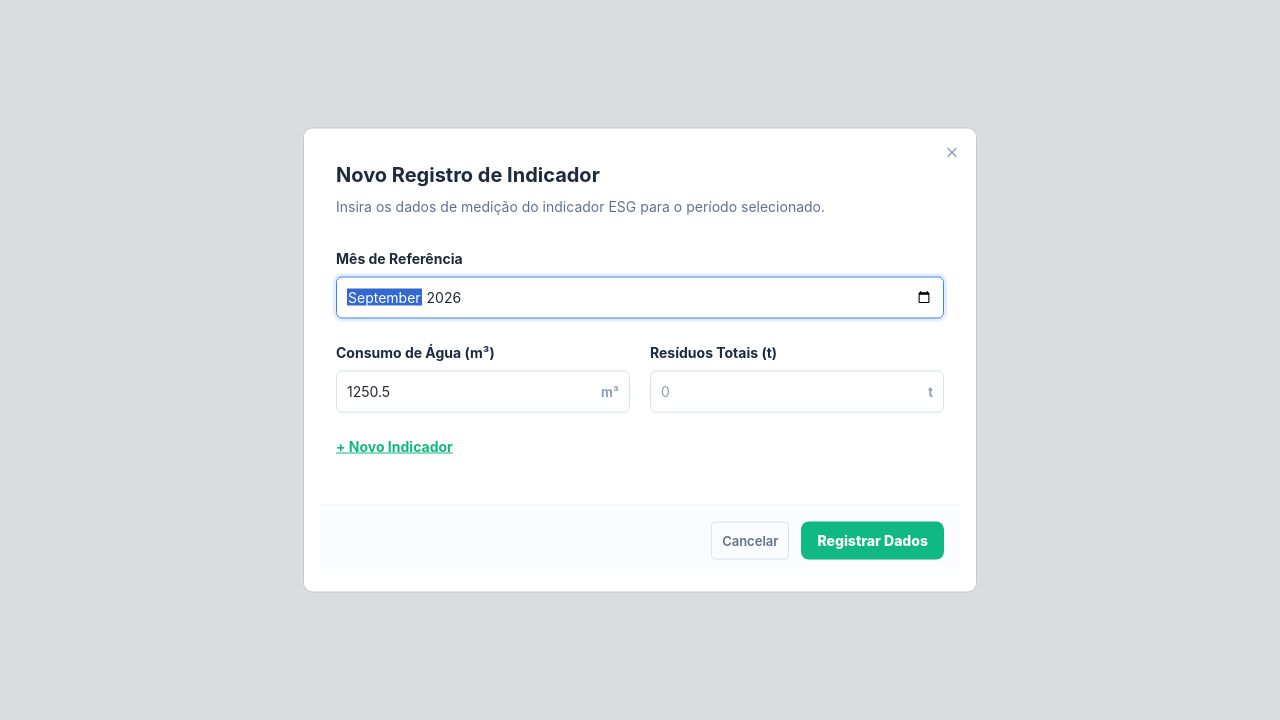
Scenario: NewEsgIndicatorModal › displays API error inside modal when PUT fails
Type "500" into the number field labelled "Consumo de Água (m³)".
click(469, 392); type("500")  # box [347,382,591,402]
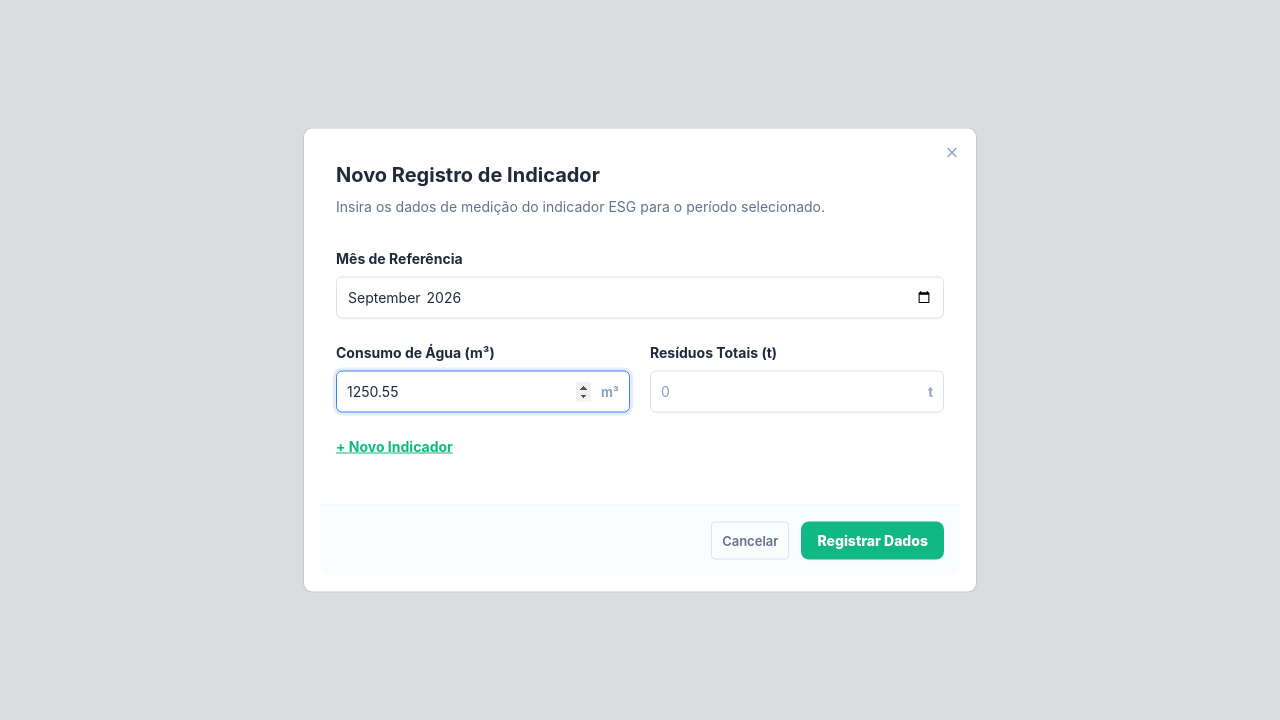
Click the button "Registrar Dados".
click(873, 540)  # box [801,522,944,560]
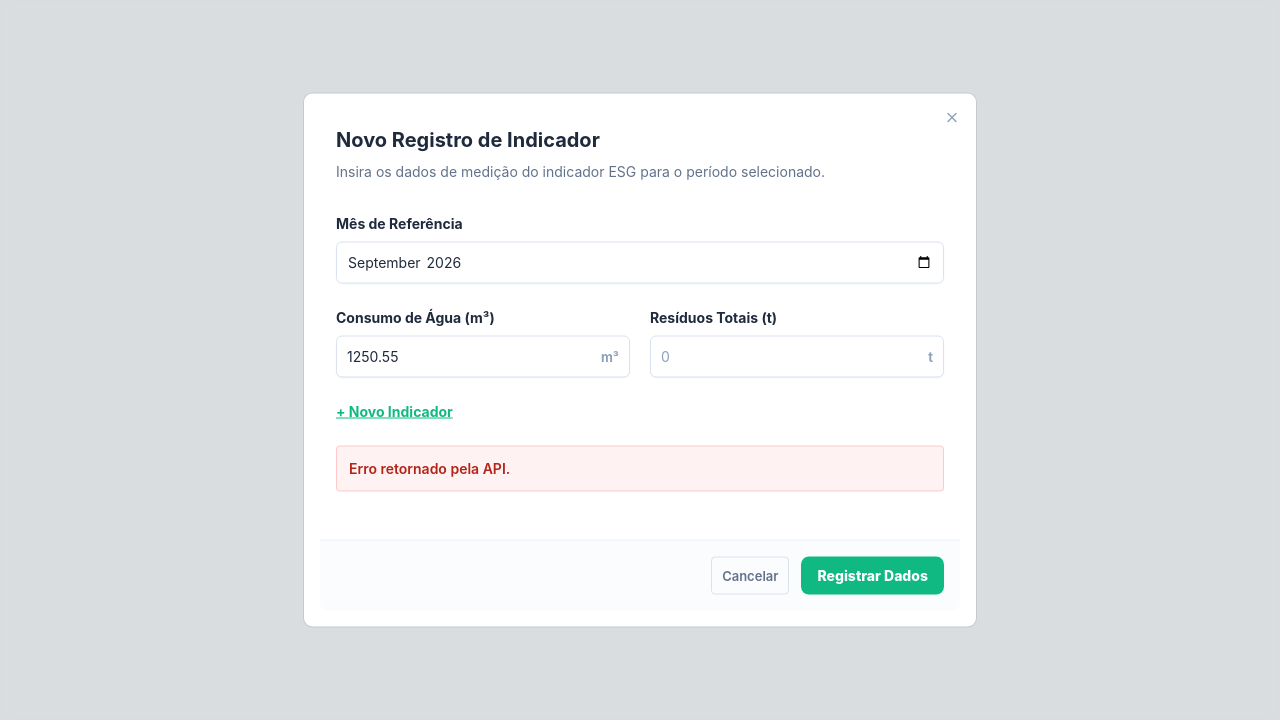
Expected: the text "Erro retornado pela API." is shown, [336,446,944,492]
